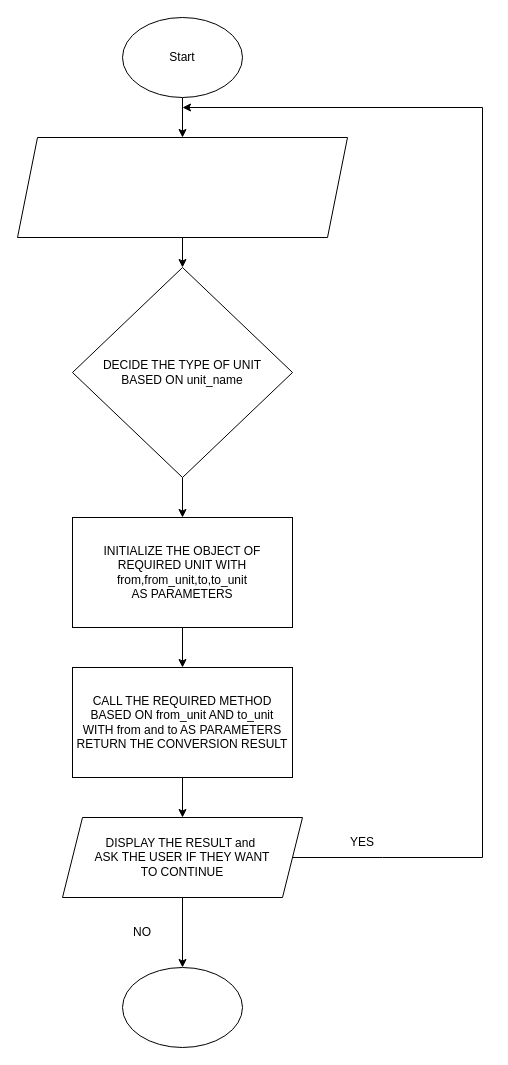
Some shapes in this 508 by 1065 pixel diagram are drawn without their labels. The shapes that lost their labels are listed below. From the top down, each one's centre as x and y in pixels, then its label:
At point (182, 187): "GET unit_name , from, from_unit , to and to_unit from USER".
At point (182, 1007): "STOP".
